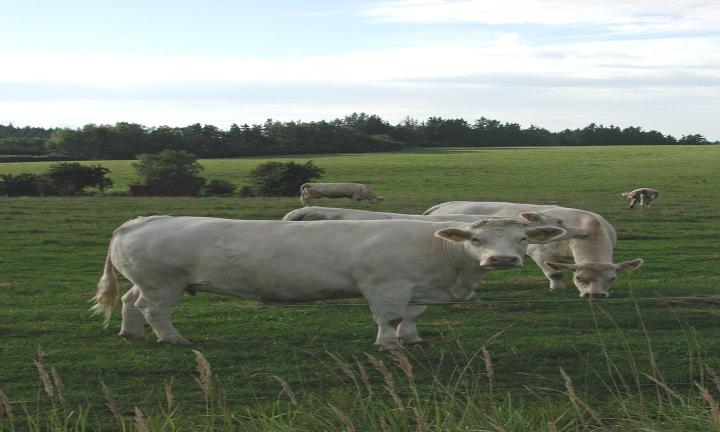Charolais: (93, 216, 563, 348), (438, 202, 642, 296)
